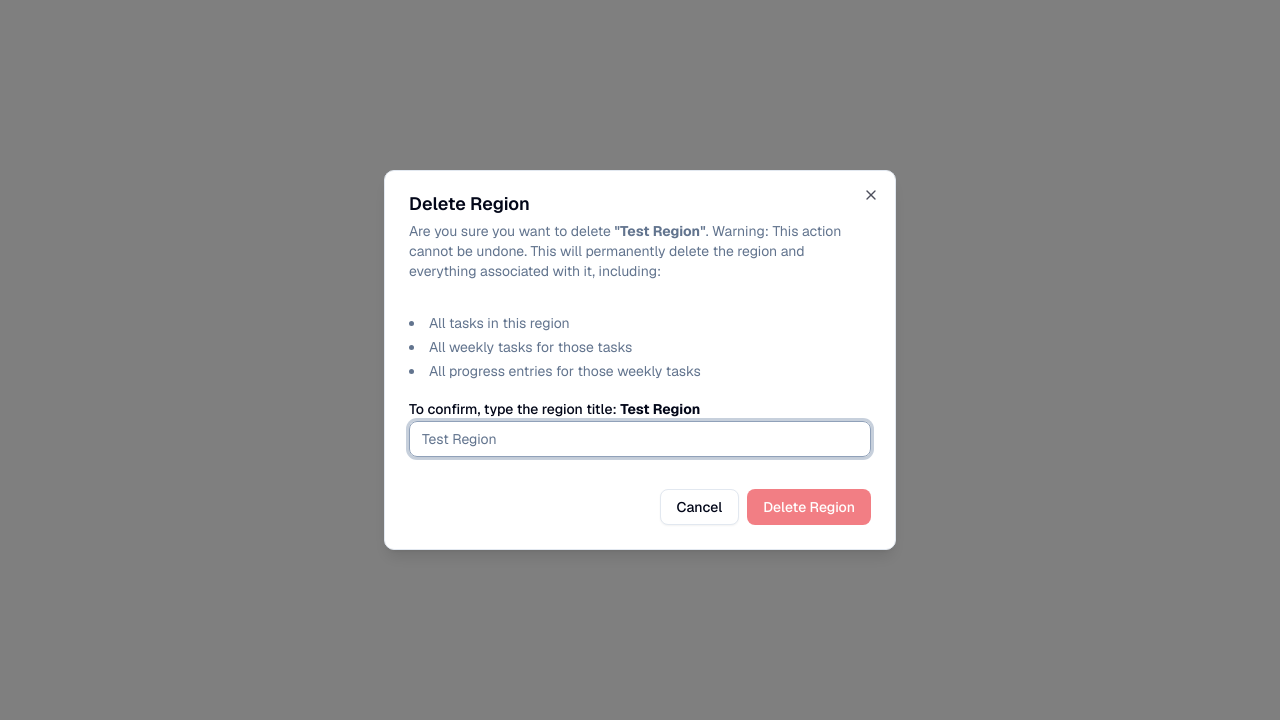
it: DeleteRegionDialog › requires exact region title to enable delete button
This screenshot has width=1280, height=720.
Check: the button "Delete Region" is disabled, box top-left (747, 489), bottom-right (871, 525)
In the field with placeholder "Test Region": (640, 439) top-left (409, 421), bottom-right (871, 457), type "Wrong Name"
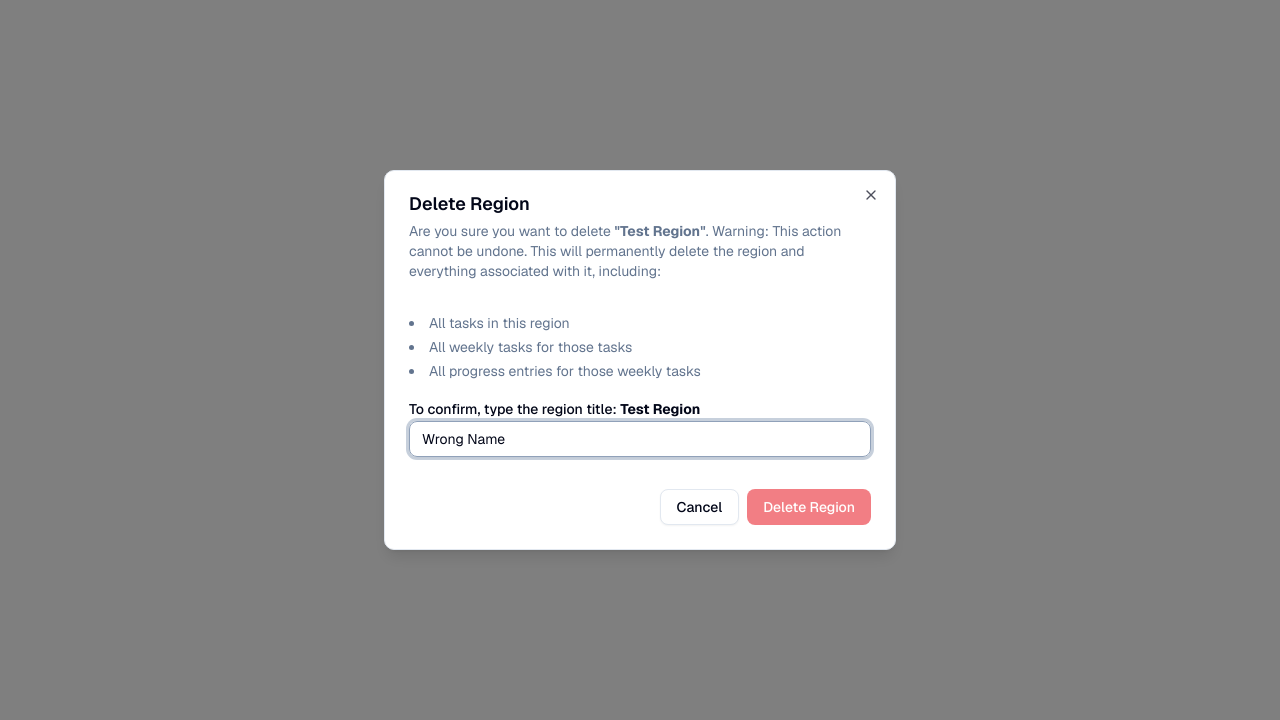
Check: the button "Delete Region" is disabled, box top-left (747, 489), bottom-right (871, 525)
Replace the text in the field with placeholder "Test Region" with "Test Region": (640, 439) top-left (409, 421), bottom-right (871, 457)
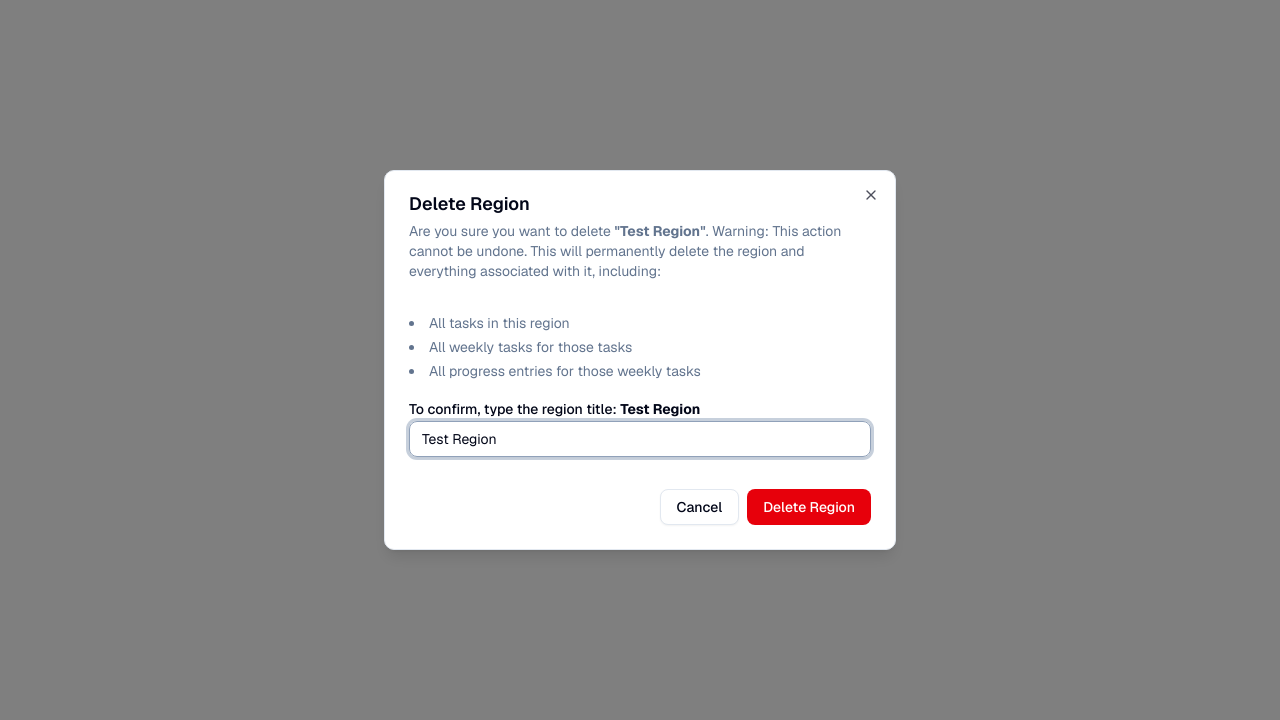
Check: the button "Delete Region" is enabled, box top-left (747, 489), bottom-right (871, 525)
